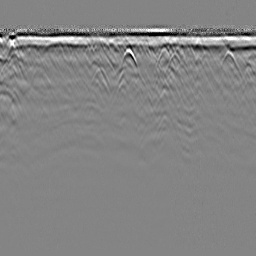cavity: (121, 45, 137, 70)
